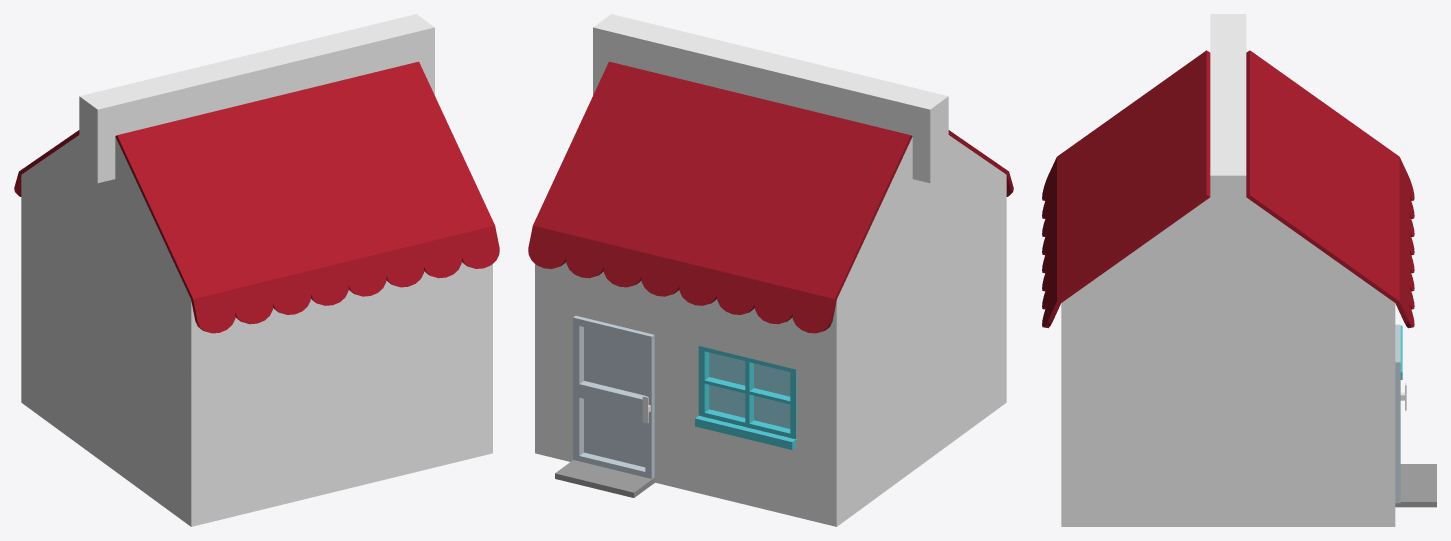
File: Store.fbx
3 renders of one model, left to right at view 1: azimuth 30°, elevation 25°; view 2: azimuth 150°, elevation 25°; view 3: azimuth 270°, elevation 25°, orthographic.
Visible parts, largest first — view 1: Store; view 2: Store, Plane.002, Cube.011; view 3: Store, Plane.002.
Part boxes in pixels (x1,y1,x2,y2): Store: [14, 14, 499, 526]; Store: [528, 14, 1013, 526]; Plane.002: [573, 315, 654, 464]; Cube.011: [699, 346, 796, 437]; Store: [1042, 14, 1436, 526]; Plane.002: [1395, 324, 1400, 503].
Size of the model in its own units: 1246 by 1294 by 1287.
